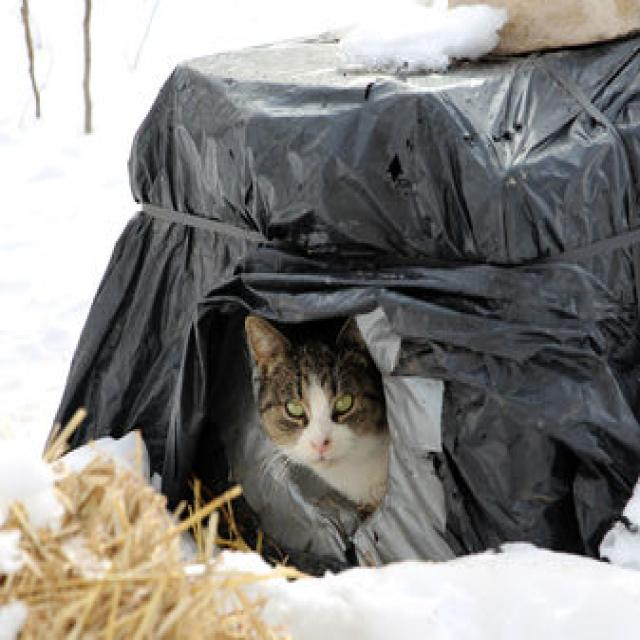cat: (246, 317, 390, 508)
